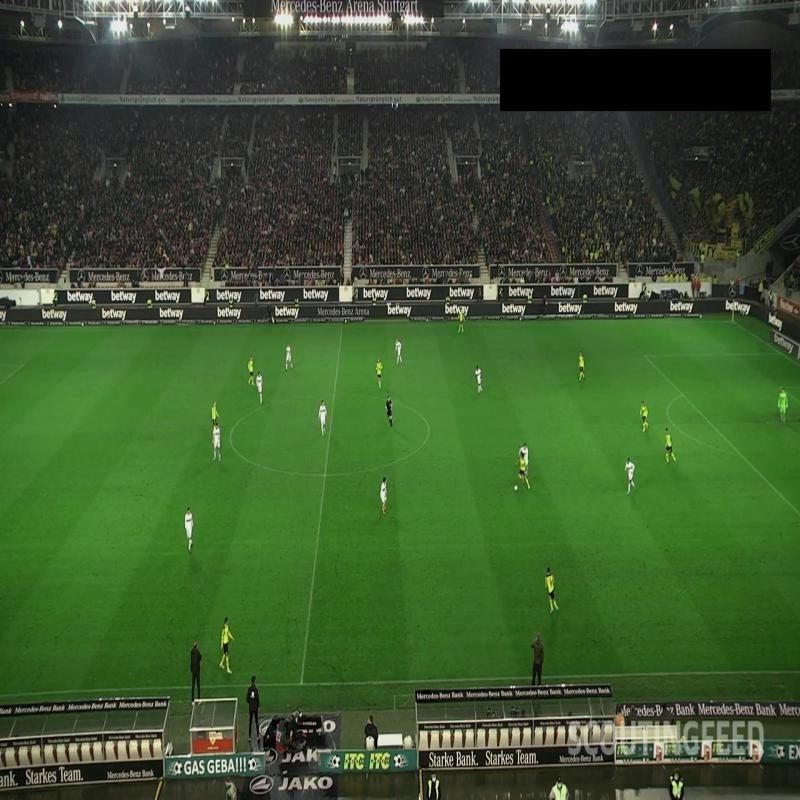1: (726, 314, 740, 328)
10: (676, 388, 690, 403)
11: (736, 449, 750, 463)
13: (334, 320, 348, 334)
14: (328, 388, 342, 402)
15: (318, 468, 332, 482)
16: (295, 677, 309, 691)
2: (774, 347, 788, 360)
7: (776, 380, 790, 394)
9: (636, 347, 652, 365), (16, 358, 30, 372)
c: (421, 424, 437, 440), (224, 424, 238, 438)
